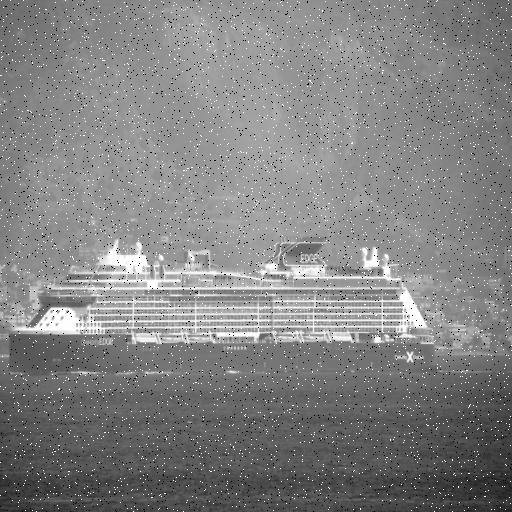cruises: (11, 228, 448, 379)
